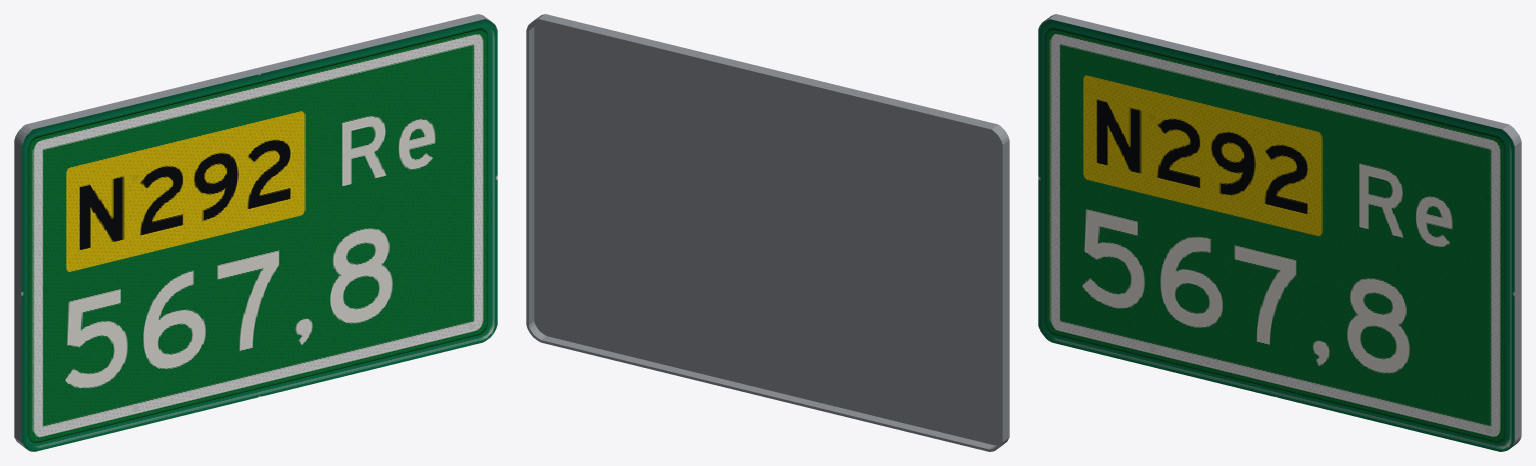
The picture shows the model from 3 angles, left to right: view 1: azimuth 30°, elevation 25°; view 2: azimuth 150°, elevation 25°; view 3: azimuth 330°, elevation 25°; orthographic projection.
Visible parts, largest first — view 1: cat_714c738afeb88396; view 2: cat_714c738afeb88396; view 3: cat_714c738afeb88396.
Boxes of the visible parts, box(x1,y1,x2,y2) form: cat_714c738afeb88396: box(14, 14, 497, 451); cat_714c738afeb88396: box(526, 14, 1009, 451); cat_714c738afeb88396: box(1038, 14, 1521, 451).
Size of the model in its own units: 0.6 by 0.015 by 0.3889.
Materials: 2 (1 with a texture image).
